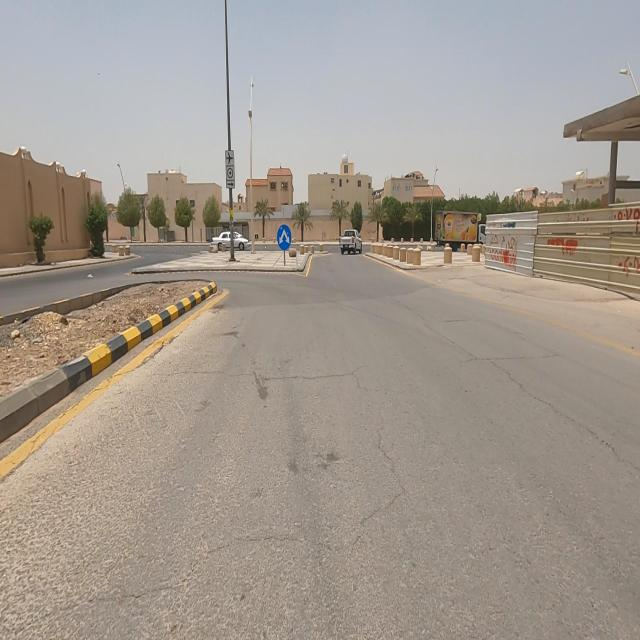Graffiti: (488, 231, 519, 270), (546, 238, 580, 257), (613, 208, 640, 231), (619, 253, 640, 277)
